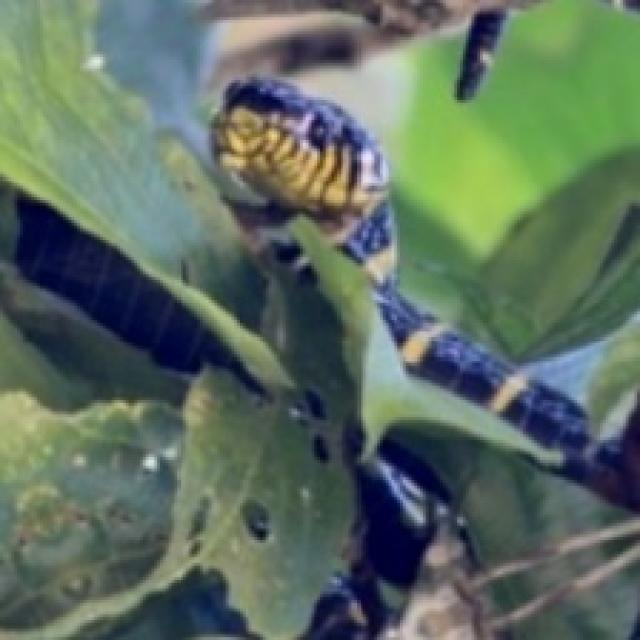mangrove cat snake: (214, 77, 637, 509), (15, 197, 265, 393), (306, 409, 474, 637)
